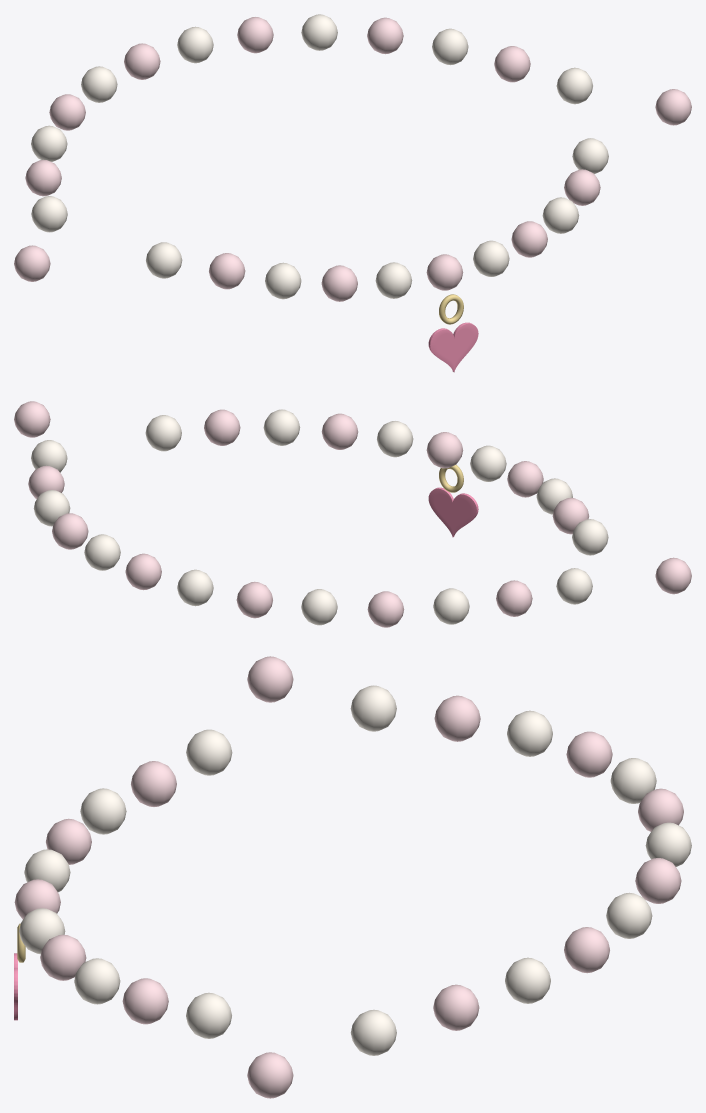
The model's file is necklace_heart_pig_tailored.glb.
The picture shows the model from 3 angles, top to bottom: view 1: azimuth 30°, elevation 25°; view 2: azimuth 150°, elevation 25°; view 3: azimuth 270°, elevation 25°; orthographic projection. The views are drawn at different scales.
Visible parts, largest first — view 1: Corazón bordado.005, Perla.058, Perla.068, Perla.060, Perla.071, Perla.072, Perla.073, Perla.076, Perla.052, Perla.054, Perla.055, Perla.066 (+15 smaller); view 2: Corazón bordado.005, Perla.058, Perla.062, Perla.063, Perla.073, Perla.077, Perla.055, Perla.067, Perla.070, Perla.052, Perla.065, Perla.068 (+16 smaller); view 3: Perla.075, Perla.058, Perla.068, Perla.071, Perla.072, Perla.073, Perla.055, Perla.056, Perla.060, Perla.070, Perla.061, Perla.063 (+14 smaller).
Part boxes in pixels (bbox=[...]): Corazón bordado.005: bbox=[428, 322, 478, 372]; Perla.058: bbox=[655, 89, 691, 125]; Perla.068: bbox=[49, 94, 85, 130]; Perla.060: bbox=[494, 46, 530, 82]; Perla.071: bbox=[31, 196, 67, 232]; Perla.072: bbox=[14, 245, 50, 281]; Perla.073: bbox=[146, 242, 182, 278]; Perla.076: bbox=[321, 265, 357, 301]; Perla.052: bbox=[426, 254, 463, 290]; Perla.054: bbox=[511, 221, 547, 257]; Perla.055: bbox=[542, 197, 579, 233]; Perla.066: bbox=[124, 43, 160, 79]; Corazón bordado.005: bbox=[428, 487, 478, 537]; Perla.058: bbox=[14, 401, 50, 437]; Perla.062: bbox=[52, 513, 88, 549]; Perla.063: bbox=[84, 534, 120, 570]; Perla.073: bbox=[572, 519, 608, 555]; Perla.077: bbox=[470, 445, 506, 481]; Perla.055: bbox=[263, 409, 300, 445]; Perla.067: bbox=[301, 589, 337, 625]; Perla.070: bbox=[496, 580, 532, 616]; Perla.052: bbox=[426, 432, 463, 468]; Perla.065: bbox=[177, 569, 213, 606]; Perla.068: bbox=[367, 591, 404, 627]; Perla.075: bbox=[80, 788, 126, 834]; Perla.058: bbox=[247, 1052, 293, 1098]; Perla.068: bbox=[566, 731, 612, 777]; Perla.071: bbox=[350, 685, 396, 731]; Perla.072: bbox=[247, 656, 293, 702]; Perla.073: bbox=[186, 729, 232, 775]; Perla.055: bbox=[74, 958, 120, 1004]; Perla.056: bbox=[122, 978, 168, 1024]; Perla.060: bbox=[433, 984, 479, 1030]; Perla.070: bbox=[434, 695, 480, 741]; Perla.061: bbox=[505, 957, 550, 1003]; Perla.063: bbox=[606, 892, 652, 938].
Bounding box in the file's own units: 0.722 × 0.1586 × 0.4979.
